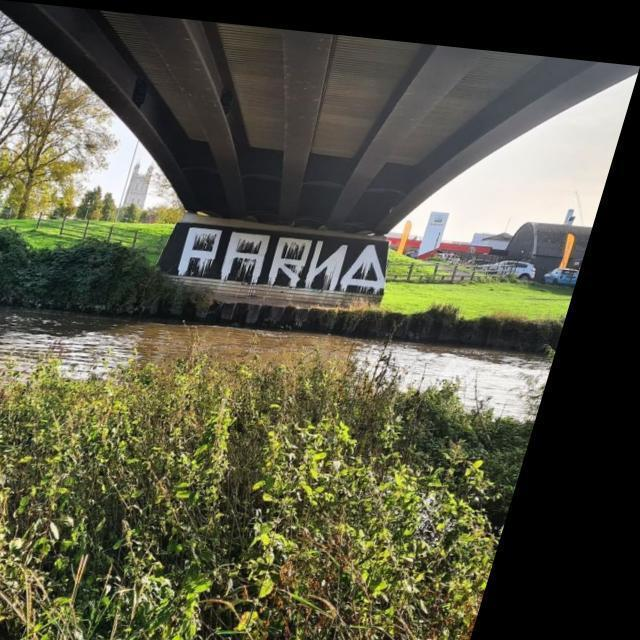nonspitting: (175, 225, 385, 291)
